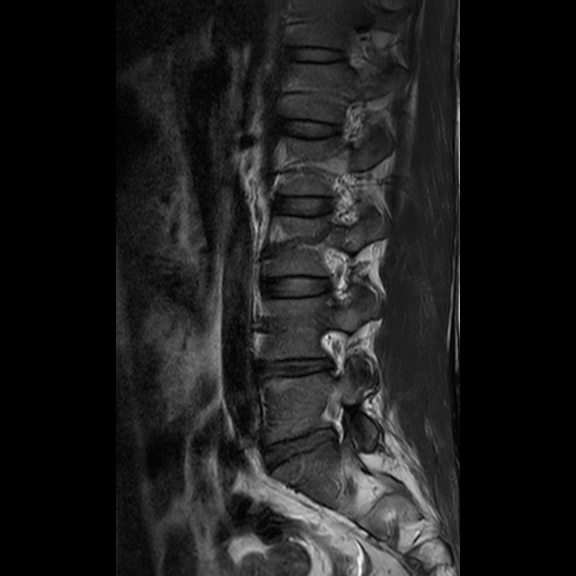RFS0: (313, 322, 353, 384)
